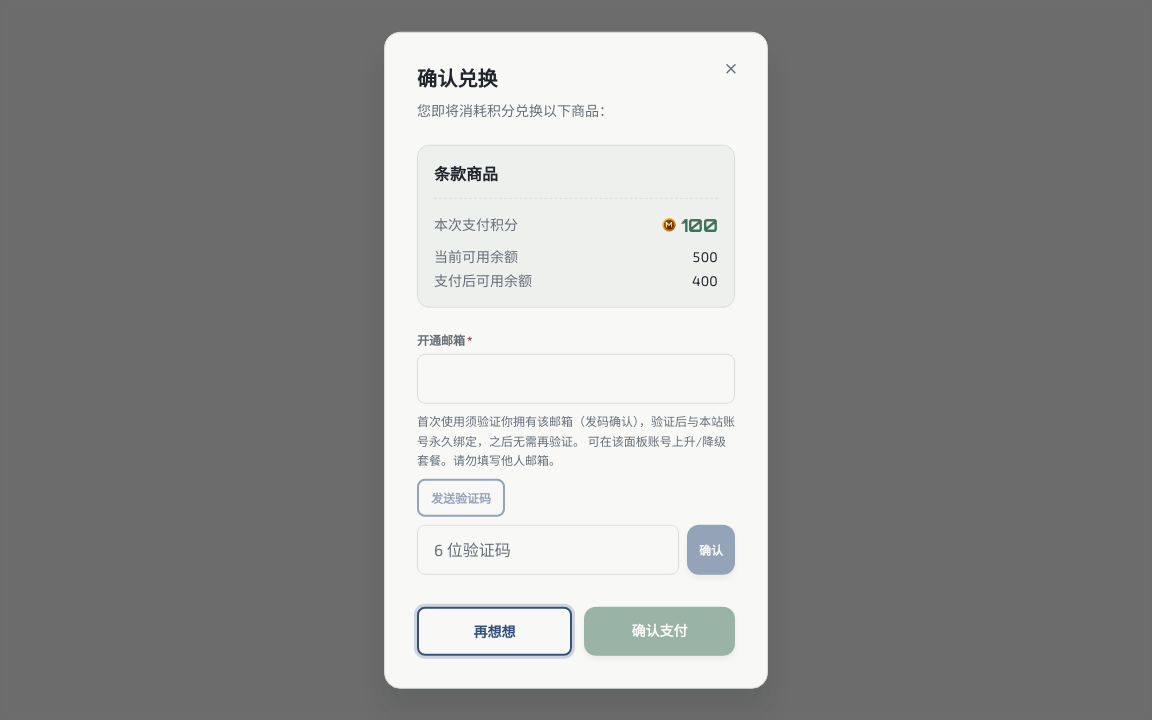
Scenario: PurchaseModal checkout preview terms › handles Xboard email flow: send code, error code, success code, and email change reset
Expected: the element with test id "preview-price" is shown, [661,211,718,239]
Expected: the button "确认支付" is disabled, [584,606,735,655]
Enter email
Type "xboard@example.com" into the field with test id "purchase-field-xboardEmail".
click(576, 379); type("xboard@example.com")  # box [417,354,735,404]
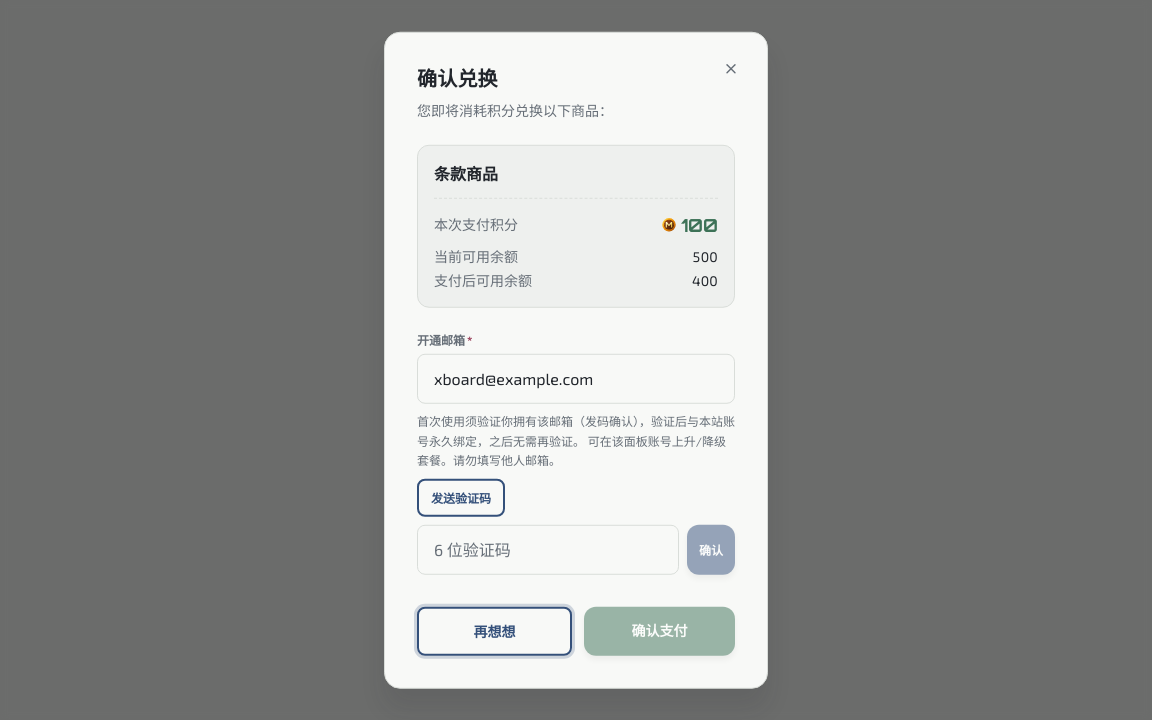
Click send code
Click the button with test id "provision-send-code".
click(461, 497)  # box [417,478,505,516]
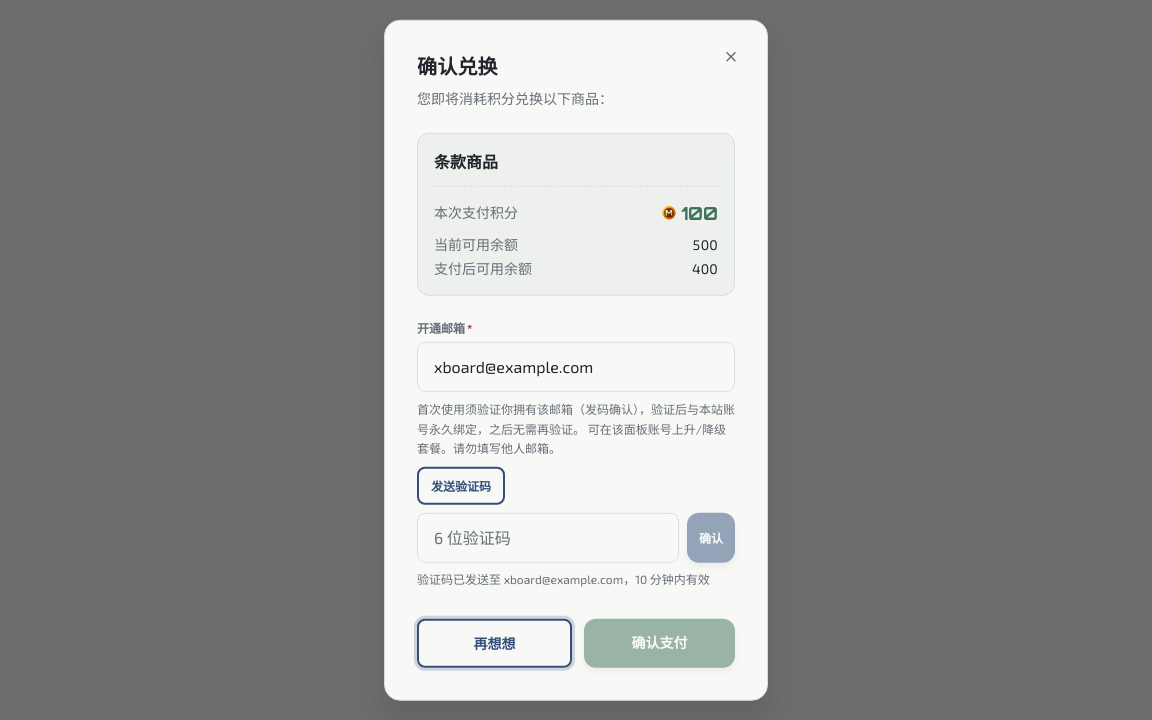
Type "111111" into the field with test id "provision-code-input".
click(548, 537); type("111111")  # box [417,512,679,562]
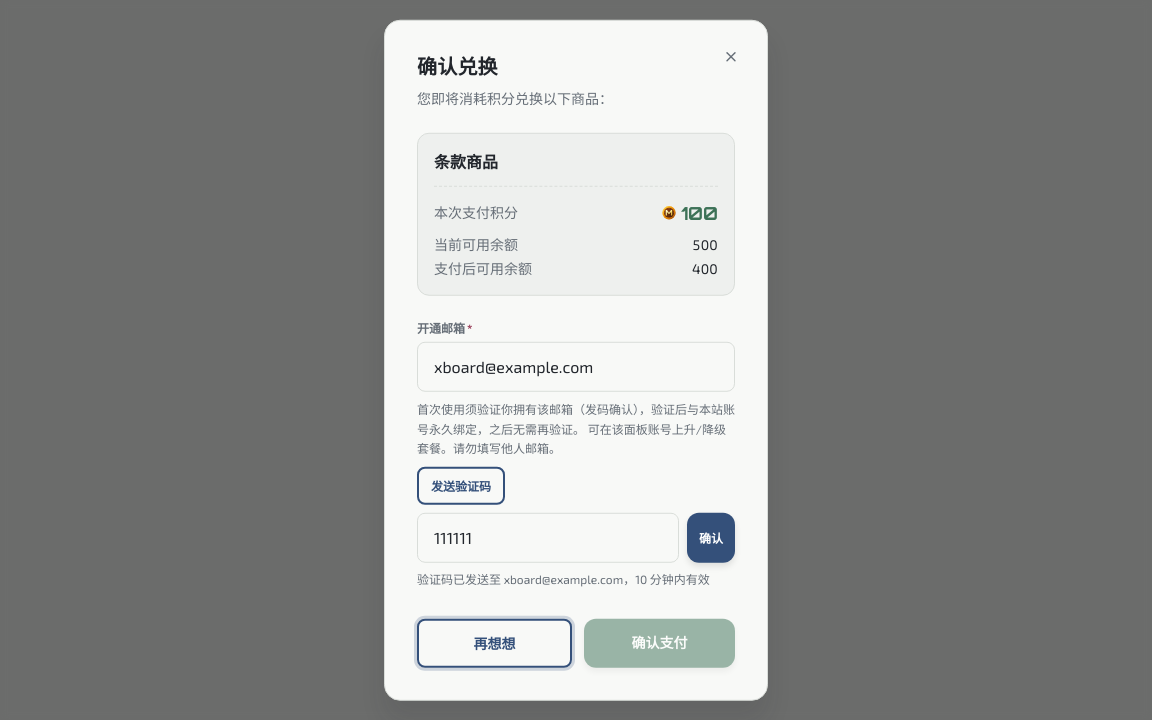
Click the button with test id "provision-confirm-code".
click(711, 537)  # box [687,512,735,562]
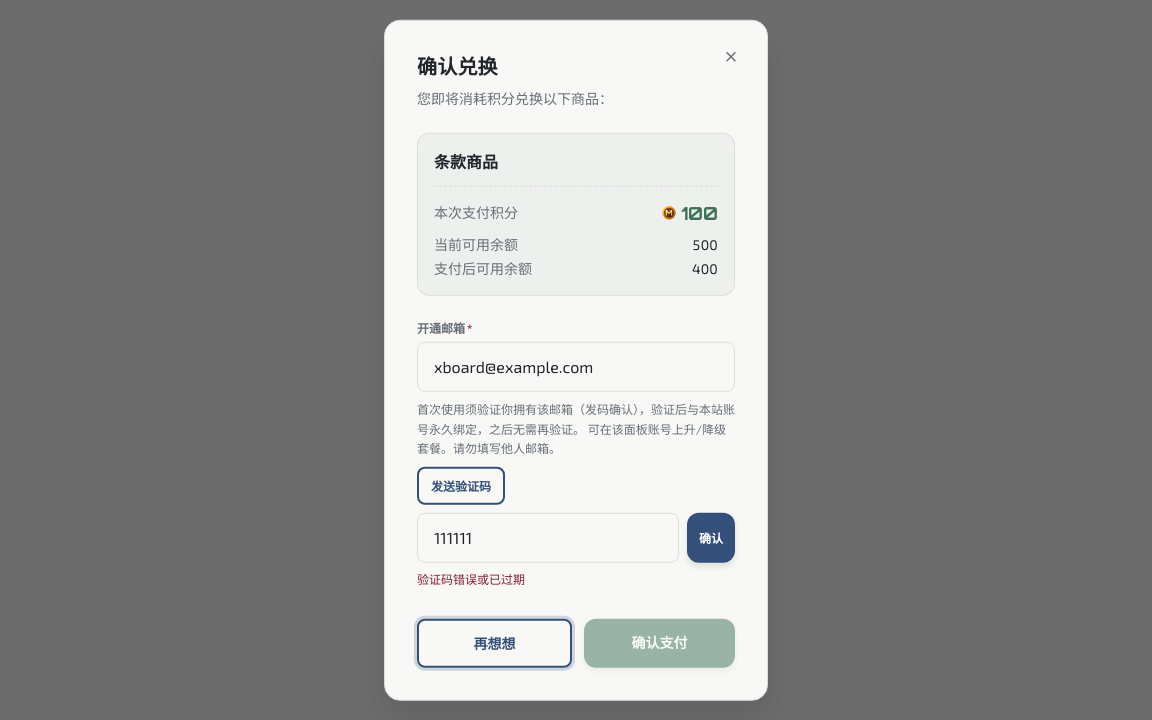
Expected: the button "确认支付" is disabled, [584,618,735,667]
Expected: the text with test id "provision-error" reads "验证码错误或已过期", [417,571,525,585]
Replace the text in the field with test id "provision-code-input" with "654321" at (548, 537), box [417,512,679,562]
Click the button with test id "provision-confirm-code".
click(711, 537)  # box [687,512,735,562]
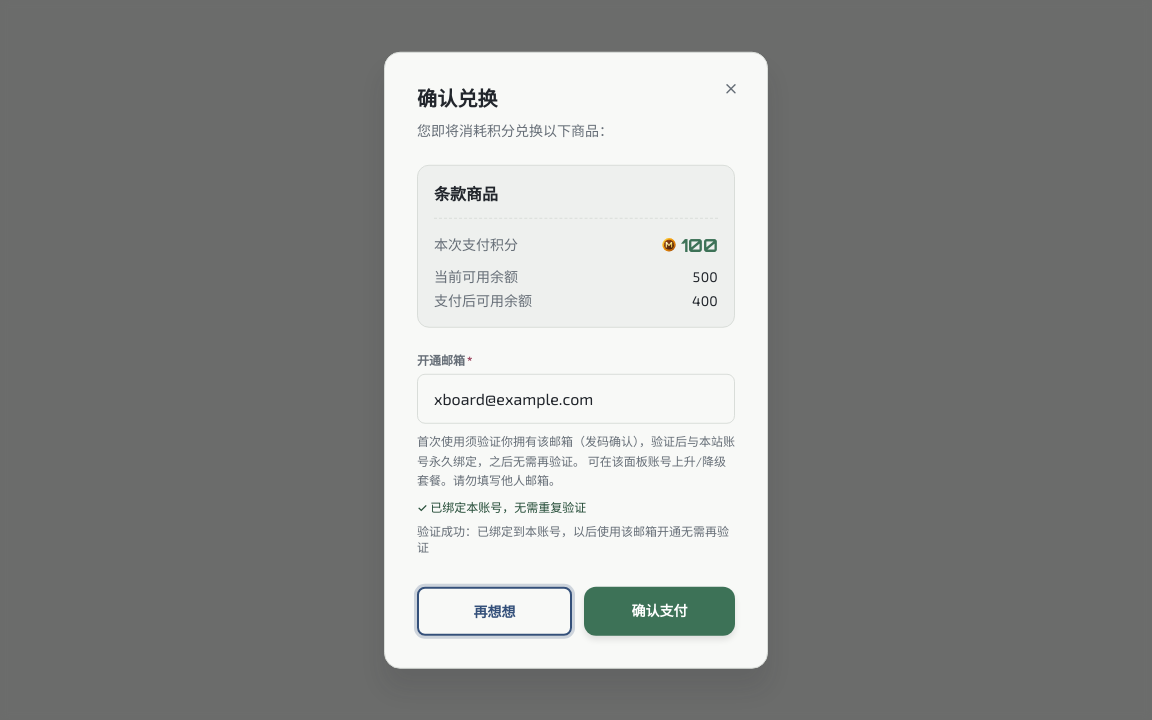
Expected: the text "✓ 已绑定本账号，无需重复验证" is shown, [417,499,586,513]
Expected: the button "确认支付" is enabled, [584,586,735,635]
Replace the text in the field with test id "purchase-field-xboardEmail" with "newemail@example.com" at (576, 399), box [417,374,735,424]
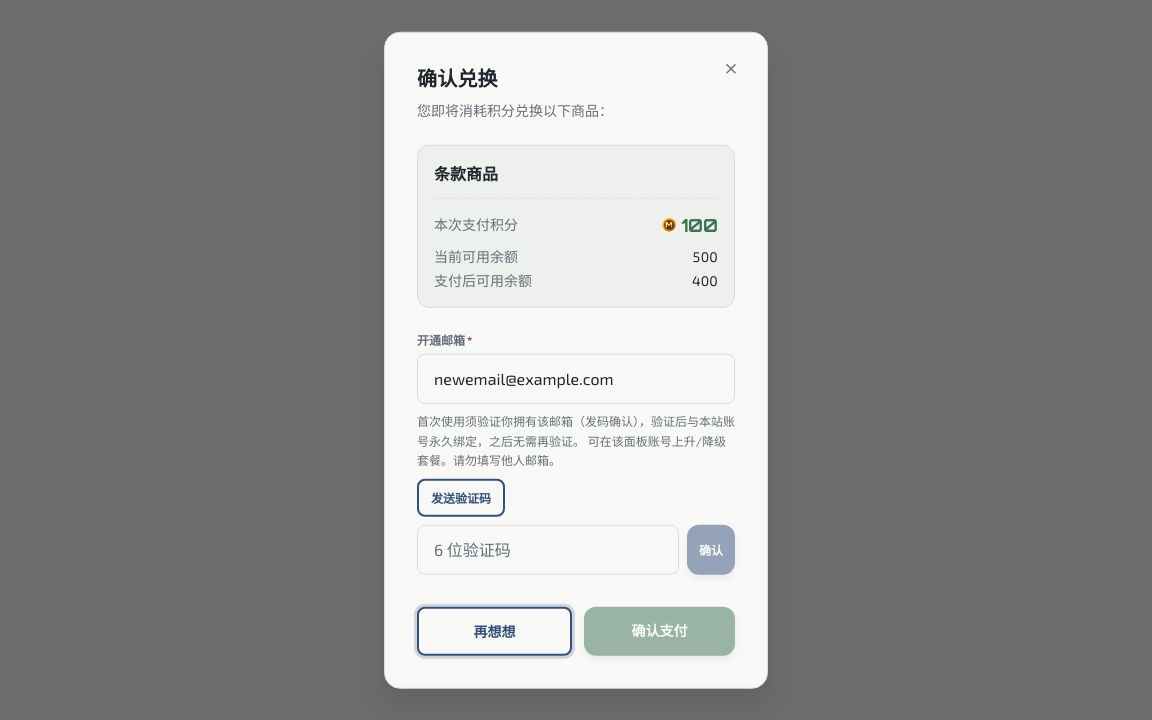
Expected: the text with test id "provision-trusted" is gone
Expected: the button "确认支付" is disabled, [584,606,735,655]
